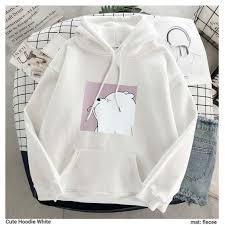sweater: (24, 19, 189, 202)
